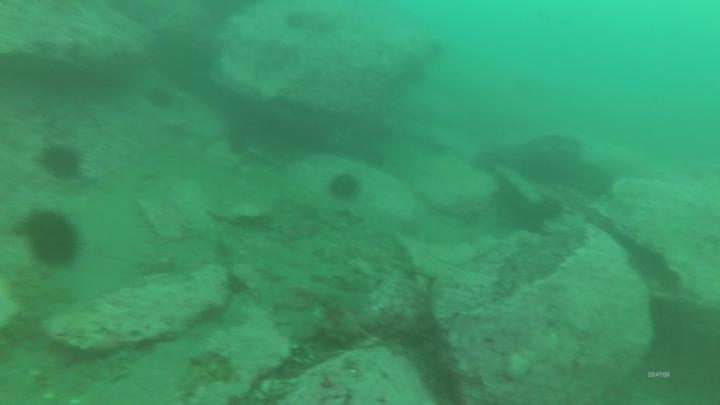echinus: (17, 203, 83, 269), (35, 142, 88, 186), (328, 169, 364, 207), (140, 85, 178, 111), (360, 146, 390, 174), (226, 129, 253, 158), (403, 57, 429, 86), (283, 12, 309, 34)
holothurian: (190, 349, 243, 386)
starfish: (529, 191, 575, 223)
